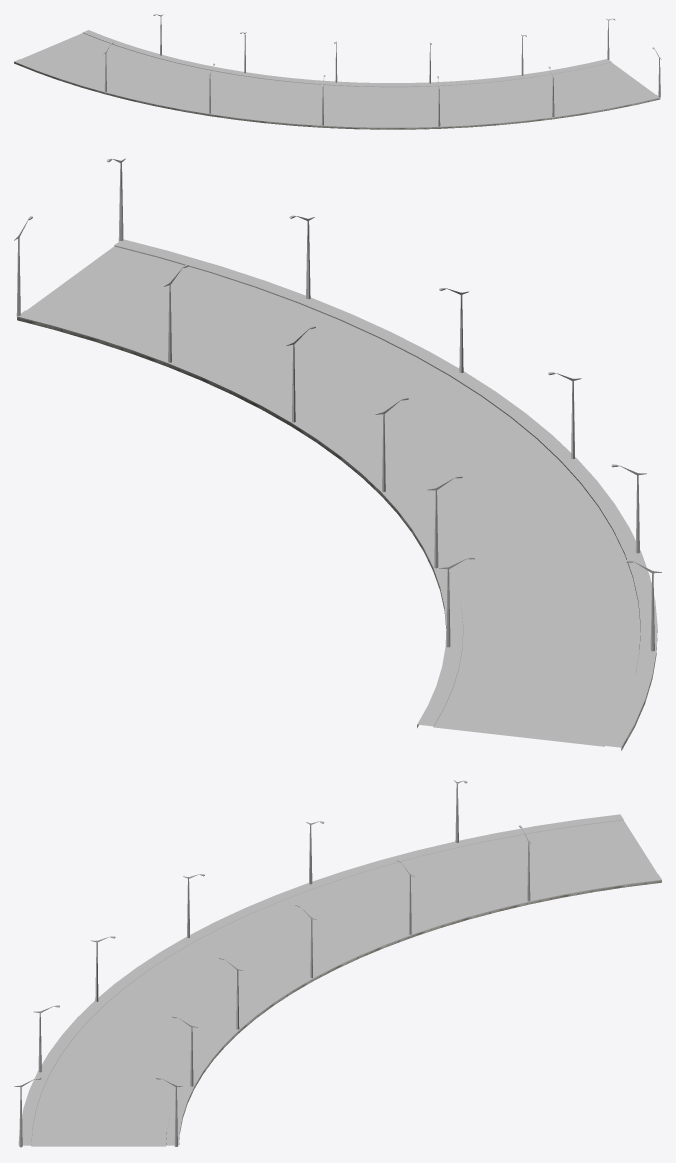
The model's file is Big_Road_75.FBX.
3 views of the same model, one above another, from view 1: azimuth 30°, elevation 25°; view 2: azimuth 150°, elevation 25°; view 3: azimuth 270°, elevation 25° (orthographic). The views are drawn at different scales.
Visible parts, largest first — view 1: Big_Road_75, city_light014; view 2: Big_Road_75, city_light014; view 3: Big_Road_75, city_light014.
Part boxes in pixels (left/top/right/bottom): Big_Road_75: left=14, top=30, right=660, bottom=129; city_light014: left=103, top=14, right=661, bottom=126; Big_Road_75: left=17, top=239, right=657, bottom=750; city_light014: left=14, top=158, right=661, bottom=651; Big_Road_75: left=18, top=814, right=661, bottom=1146; city_light014: left=14, top=780, right=531, bottom=1147.
Bounding box in the file's own units: 11112 × 1104 × 9161.
